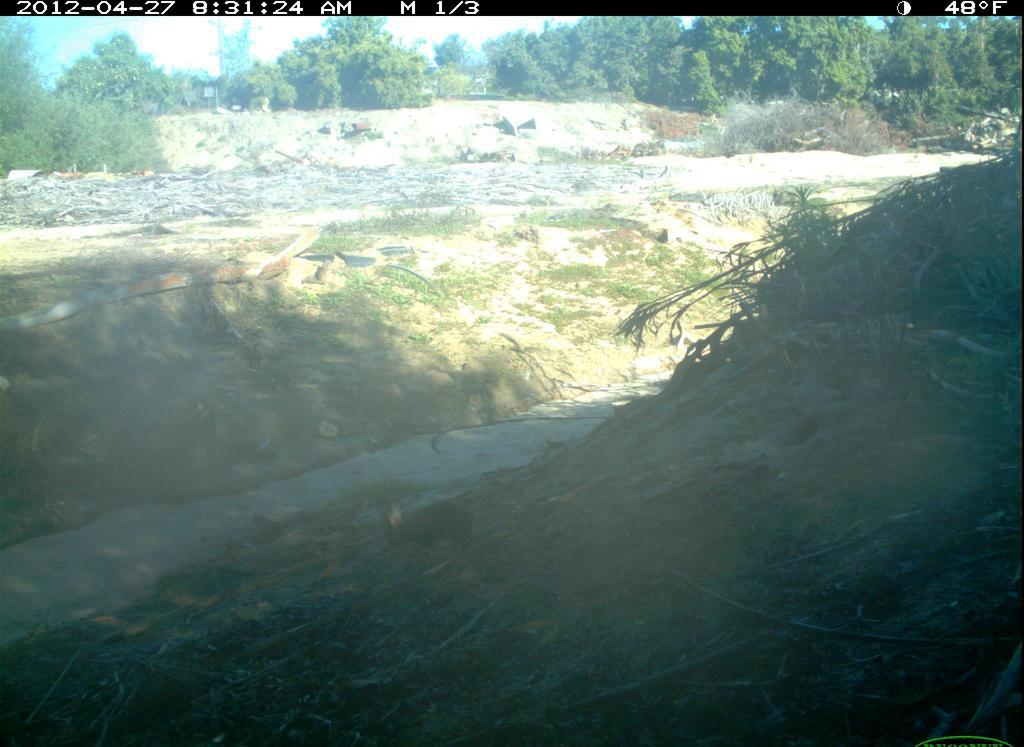rabbit: (347, 478, 498, 556)
